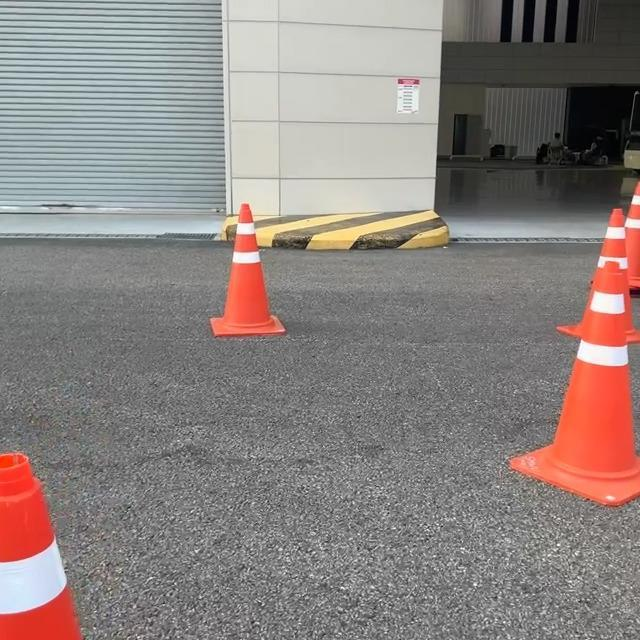fallen_object: (463, 130, 640, 482), (0, 427, 108, 608), (177, 202, 276, 328)
